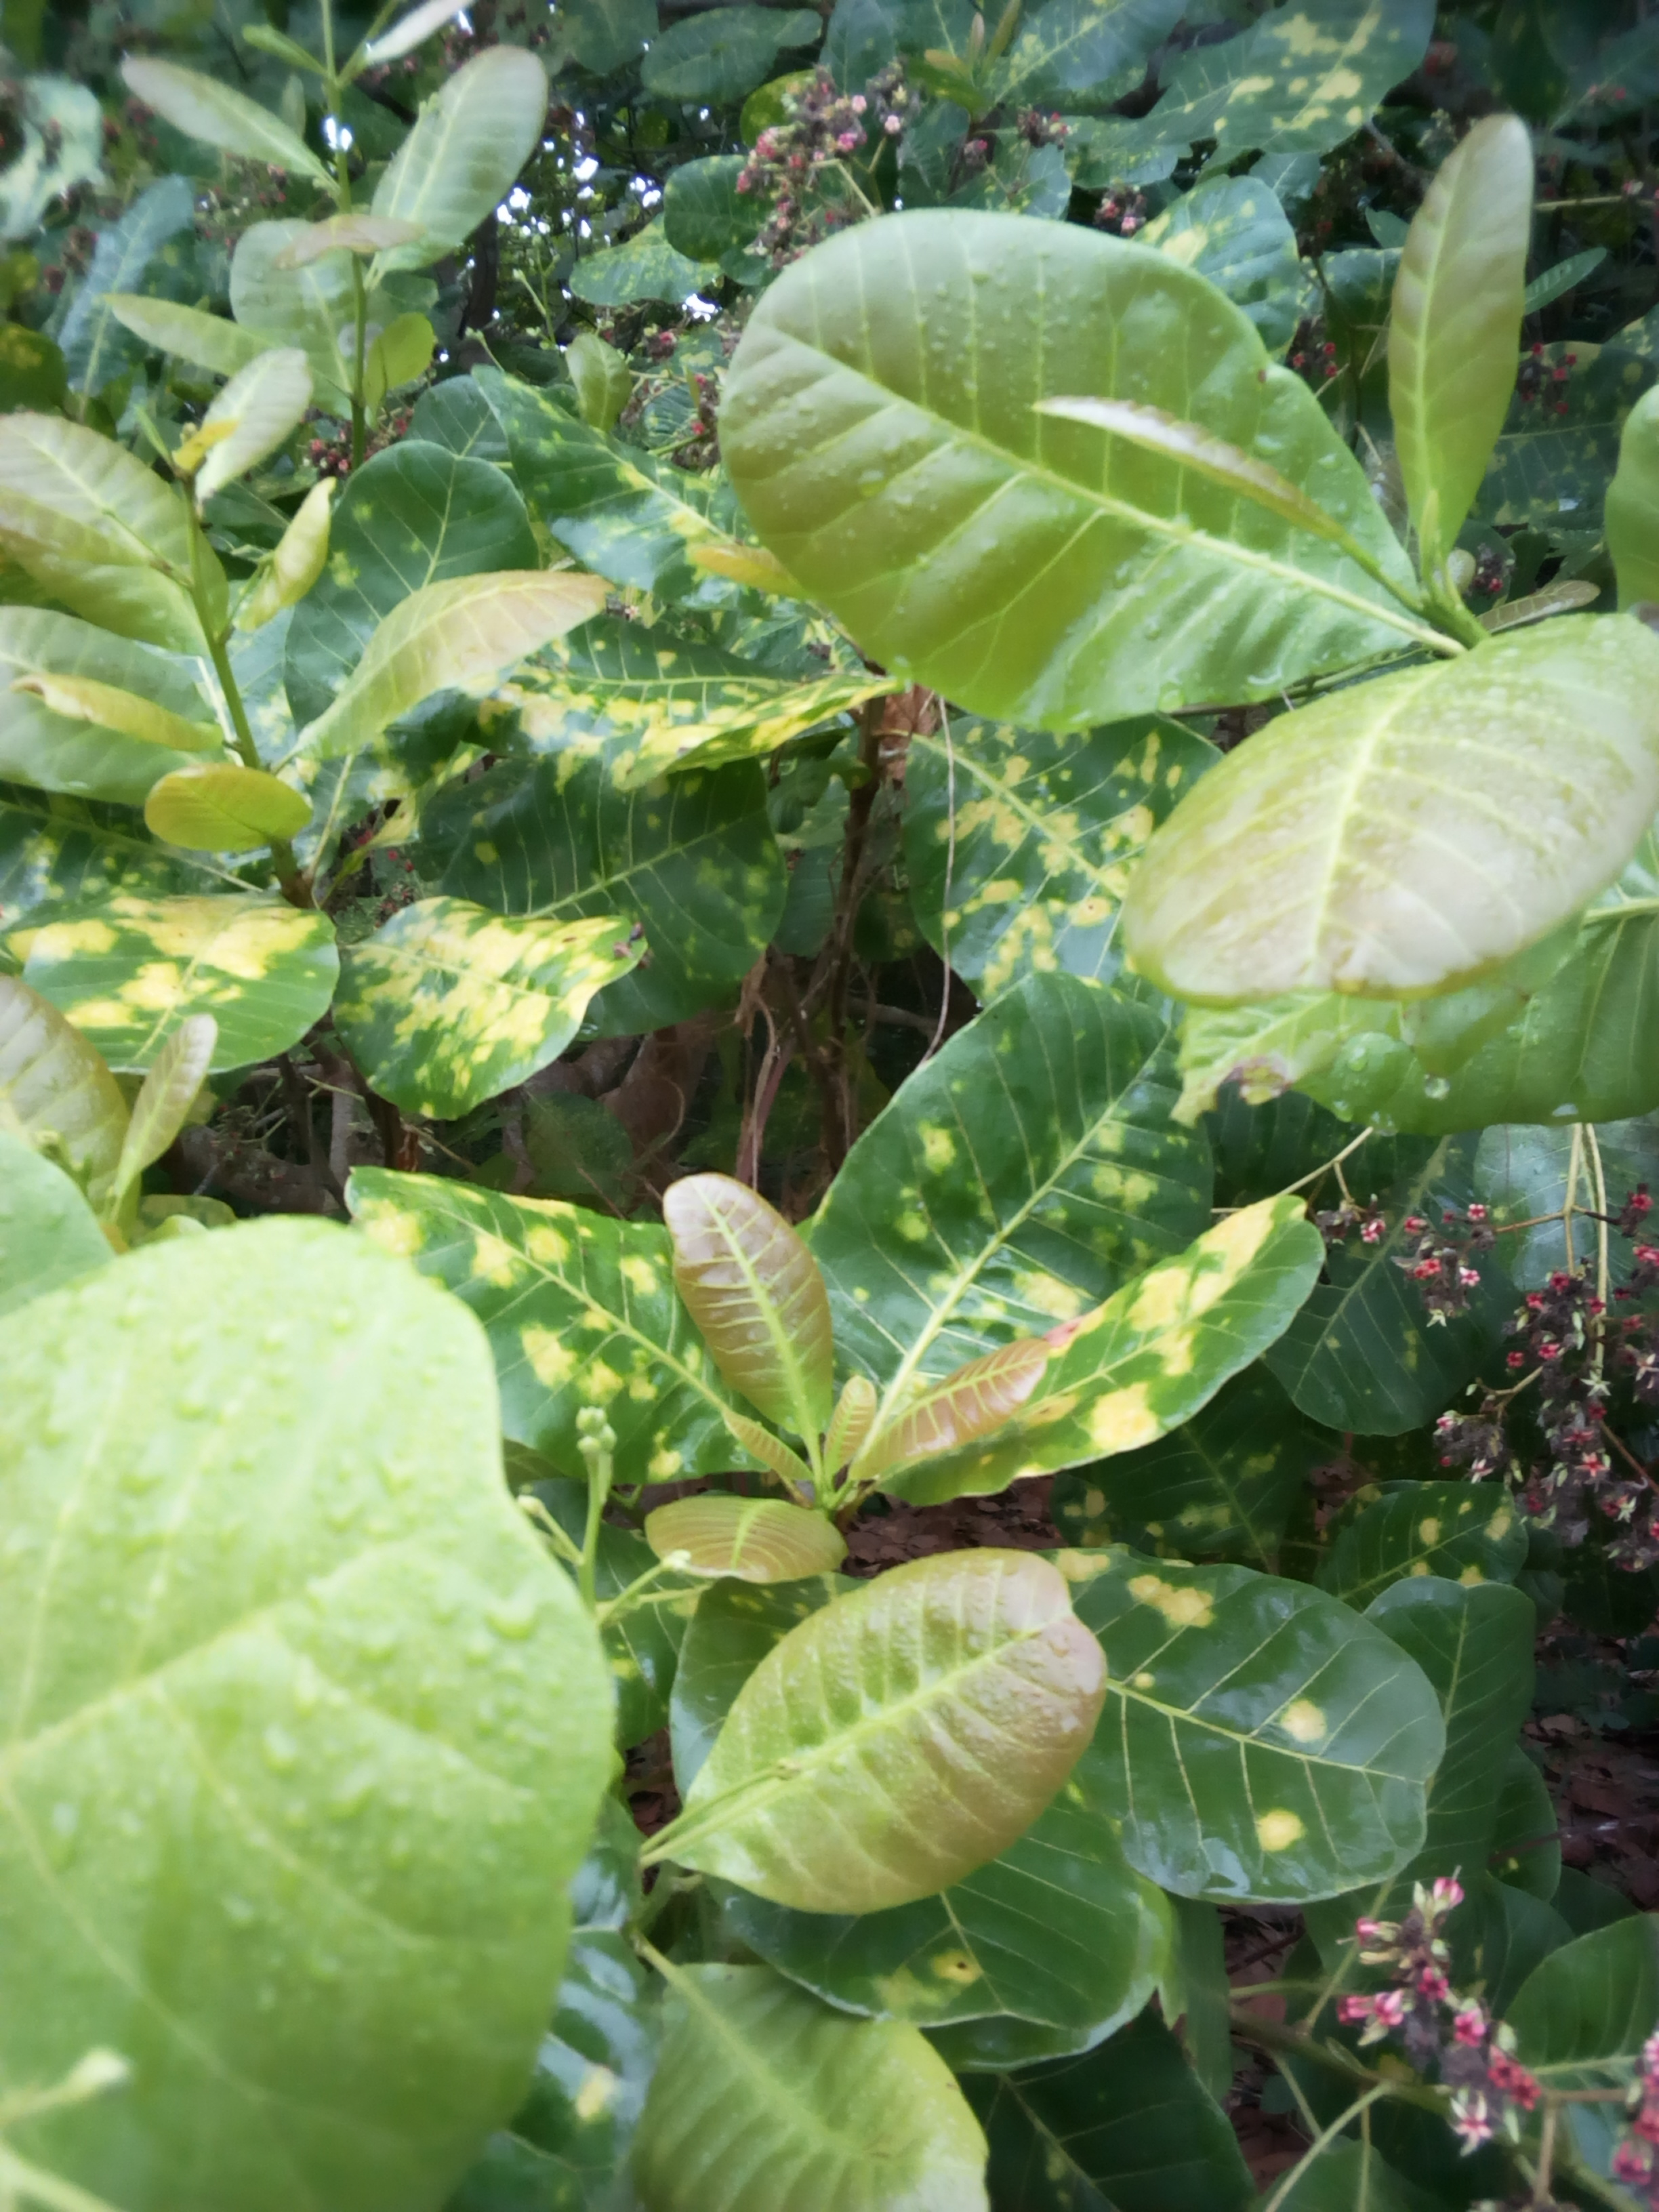Carence minérale: (667, 1564, 1199, 2048), (793, 951, 1277, 1458), (308, 1157, 798, 1496), (1063, 1536, 1480, 1923), (877, 662, 1263, 1038), (7, 862, 382, 1096), (335, 876, 664, 1130), (500, 644, 904, 822), (500, 394, 782, 636), (1162, 0, 1457, 226)
